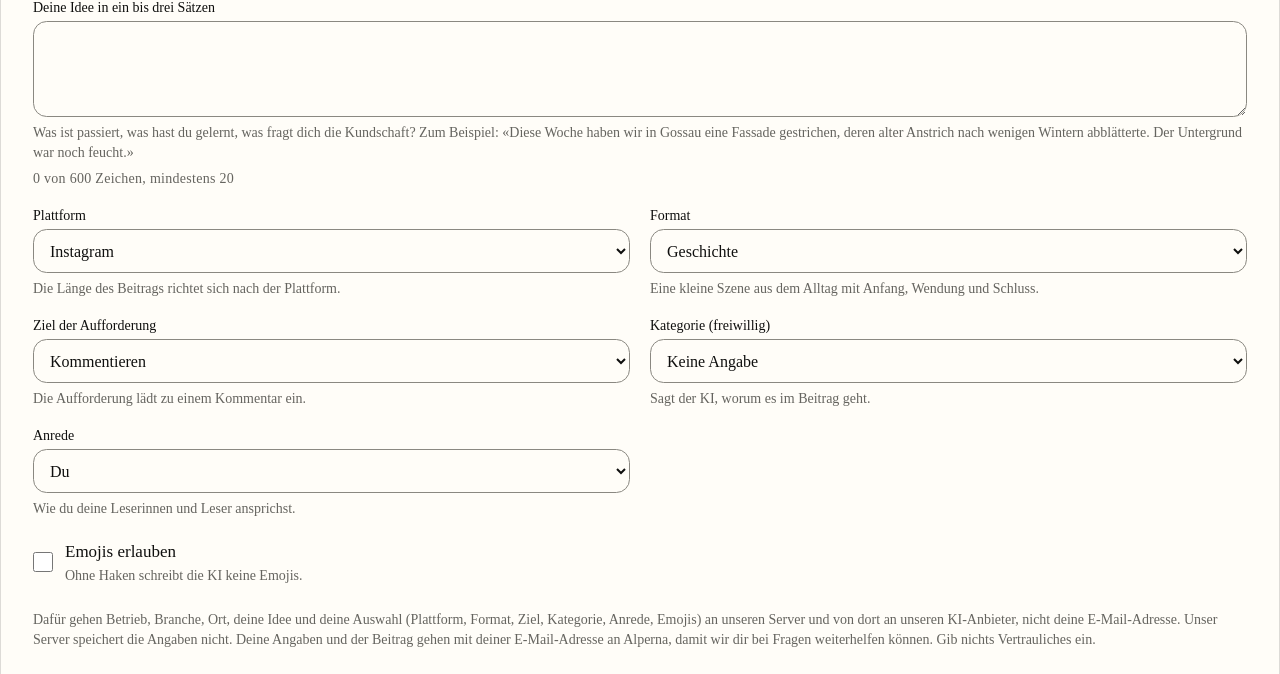
Test: Post-Generator im Browser › nennt Platzhalter in eckigen Klammern über dem Beitrag
The image size is (1280, 674).
(page scrolled)
Select "Website-Besuche" in the dropdown labelled "Ziel der Aufforderung" at (332, 361), box [33, 339, 630, 383]
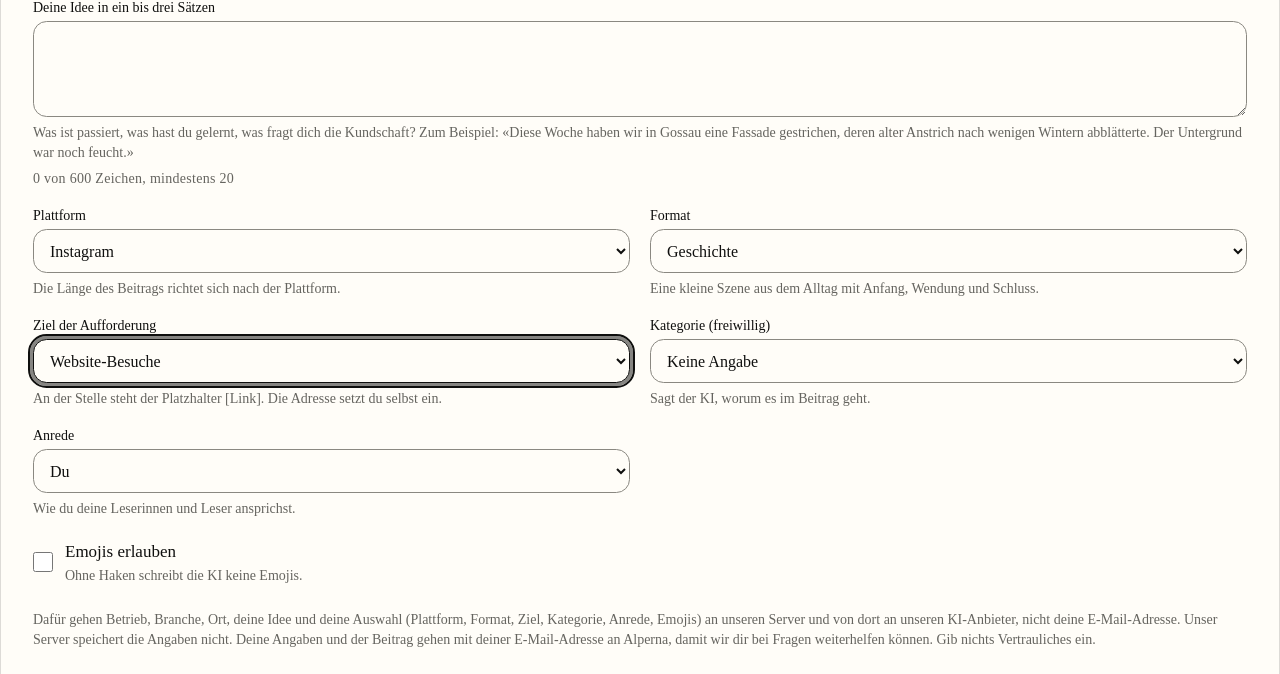
Click the text box labelled "Deine Idee in ein bis drei Sätzen" at (640, 69), box [33, 21, 1247, 117]
(page scrolled)
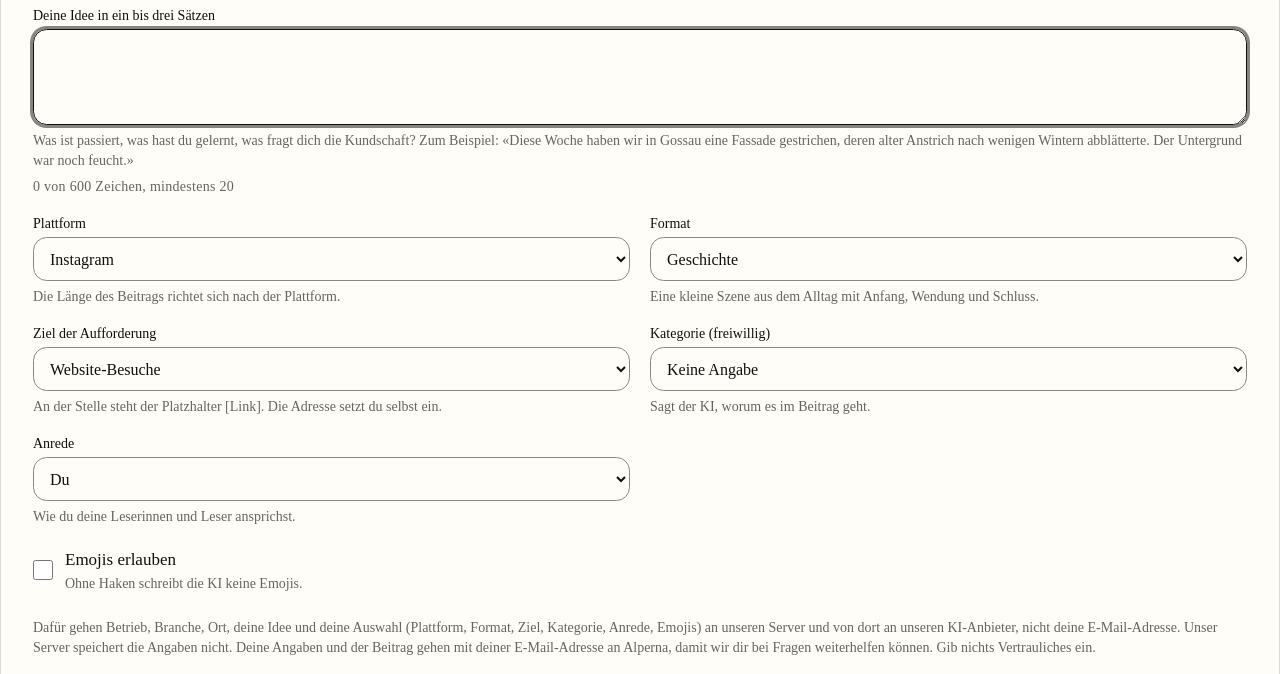
Type keys "Diese Woche haben wir in Gossau eine Fassade gestrichen, deren alter Anstrich nach wenigen Wintern abblätterte."
(page scrolled)
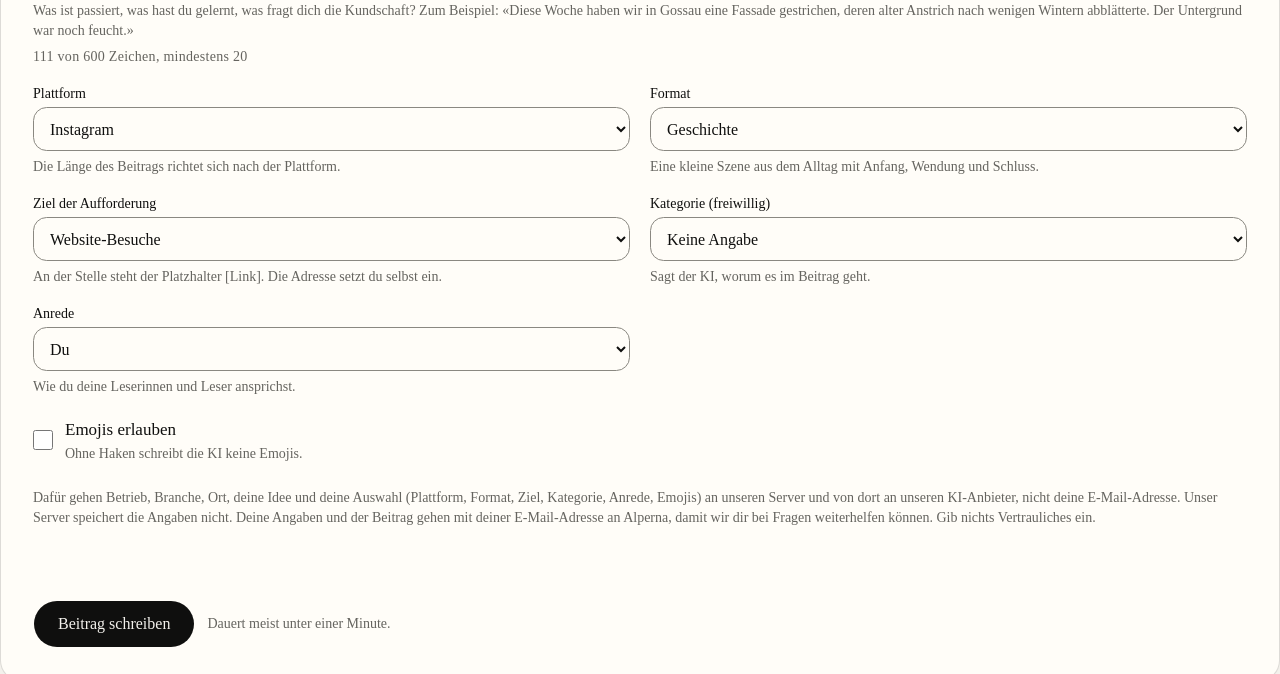
Click the button "Beitrag schreiben" at (114, 624), box [33, 600, 195, 648]
(page scrolled)
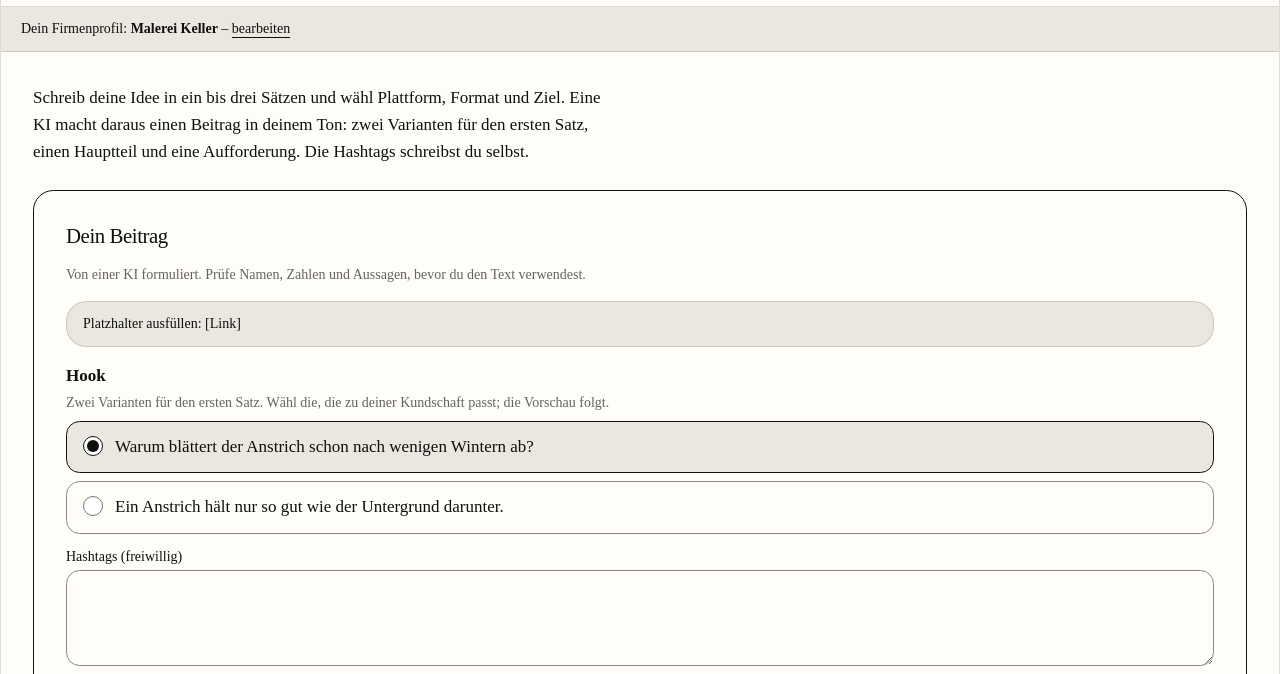
Check: the text with test id "platzhalter" reads "Platzhalter ausfüllen: [Link]", box [66, 300, 1214, 346]
